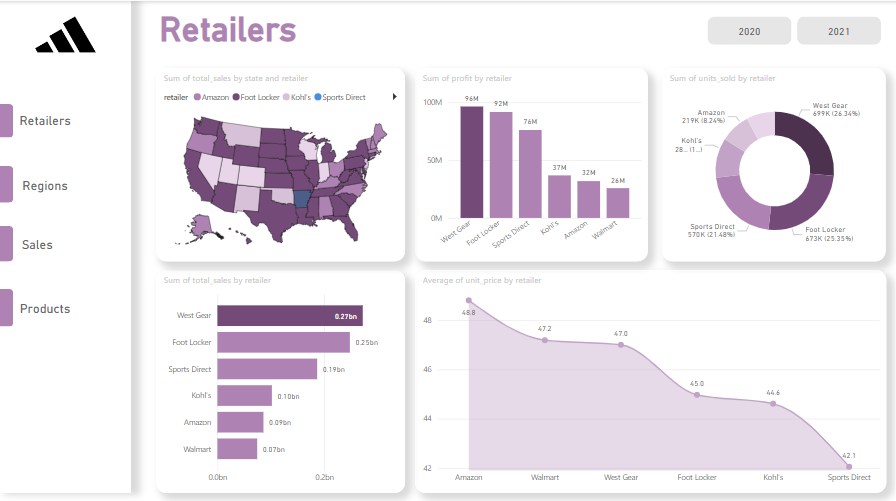

This screenshot's page, from the dashboard's own definition file:
{"tool":"powerbi","page":{"name":"Retailers","canvas":[1280,720],"ordinal":0},"visuals":[{"type":"group","id":"g1","title":"Group 1","box":[0,0,187.2,697],"z":0,"group":"g2"},{"type":"shape","box":[0,0,187.2,697],"z":0,"group":"g1"},{"type":"donutChart","fields":{"Category":["adidas retailers.retailer"],"Y":["Sum(adidas adidas.units_sold)"]},"box":[939.7,95,317.5,273.5],"z":0},{"type":"image","box":[38.6,17.1,111.4,61.4],"z":1000,"group":"g1"},{"type":"columnChart","fields":{"Y":["Sum(adidas adidas.profit)"],"Category":["adidas retailers.retailer"]},"box":[589.6,95,330.2,273.5],"z":1000},{"type":"shape","box":[0,145.8,20,47.5],"z":1000,"group":"g2"},{"type":"shape","box":[0,234.2,20,51.7],"z":2000,"group":"g2"},{"type":"shape","box":[0,235.7,14.3,50],"z":3000,"group":"g1"},{"type":"shape","box":[0,318.3,20,50],"z":3000,"group":"g2"},{"type":"barChart","fields":{"Category":["adidas retailers.retailer"],"Y":["Sum(adidas adidas.total_sales)"]},"box":[222.5,381.3,352.9,316.1],"z":3000},{"type":"shape","box":[0,318.6,14.3,50],"z":4000,"group":"g1"},{"type":"areaChart","fields":{"Category":["adidas retailers.retailer"],"Y":["Avg(adidas adidas.unit_price)"]},"box":[589.6,381.3,667.6,316.1],"z":4000},{"type":"shape","box":[0,408.3,20,53.3],"z":4000,"group":"g2"},{"type":"shapeMap","fields":{"Category":["adidas states.state"],"Series":["adidas retailers.retailer"],"Value":["Sum(adidas adidas.total_sales)"]},"box":[222.5,95,352.9,273.5],"z":5000},{"type":"shape","box":[0,408.6,14.3,50],"z":5000,"group":"g1"},{"type":"textbox","box":[223.2,7.2,241.9,70.6],"z":6000},{"type":"actionButton","box":[14.2,145.8,102.5,47.5],"z":6000,"group":"g1"},{"type":"advancedSlicerVisual","fields":{"Values":["adidas adidas.invoice_date.Variation.Date Hierarchy.Year"]},"box":[999.4,17.3,257.8,50.4],"z":7000},{"type":"actionButton","box":[14.4,236.2,102.2,49],"z":7000,"group":"g1"},{"type":"group","id":"g2","title":"Group 2","box":[0,0,187.2,697],"z":8000},{"type":"actionButton","box":[14.2,318.3,80,50],"z":8000,"group":"g1"},{"type":"actionButton","box":[14.4,410.4,102.2,49],"z":9000,"group":"g1"}]}

Visuals, with their boxes on the page's 1280x720 design canvas (x1, y1, x2, y2). These are canvas units, not pixel positions in the 896x501 screenshot, which may show the page scaled, cropped or inside an application window:
"Group 1" group: 0:0:187:697
shape: 0:0:187:697
donutChart - adidas retailers.retailer x Sum(adidas adidas.units_sold): 940:95:1257:368
image: 39:17:150:78
columnChart - Sum(adidas adidas.profit) x adidas retailers.retailer: 590:95:920:368
shape: 0:146:20:193
shape: 0:234:20:286
shape: 0:236:14:286
shape: 0:318:20:368
barChart - adidas retailers.retailer x Sum(adidas adidas.total_sales): 222:381:575:697
shape: 0:319:14:369
areaChart - adidas retailers.retailer x Avg(adidas adidas.unit_price): 590:381:1257:697
shape: 0:408:20:462
shapeMap - adidas states.state x adidas retailers.retailer: 222:95:575:368
shape: 0:409:14:459
textbox: 223:7:465:78
actionButton: 14:146:117:193
advancedSlicerVisual - adidas adidas.invoice_date.Variation.Date Hierarchy.Year: 999:17:1257:68
actionButton: 14:236:117:285
"Group 2" group: 0:0:187:697
actionButton: 14:318:94:368
actionButton: 14:410:117:459
